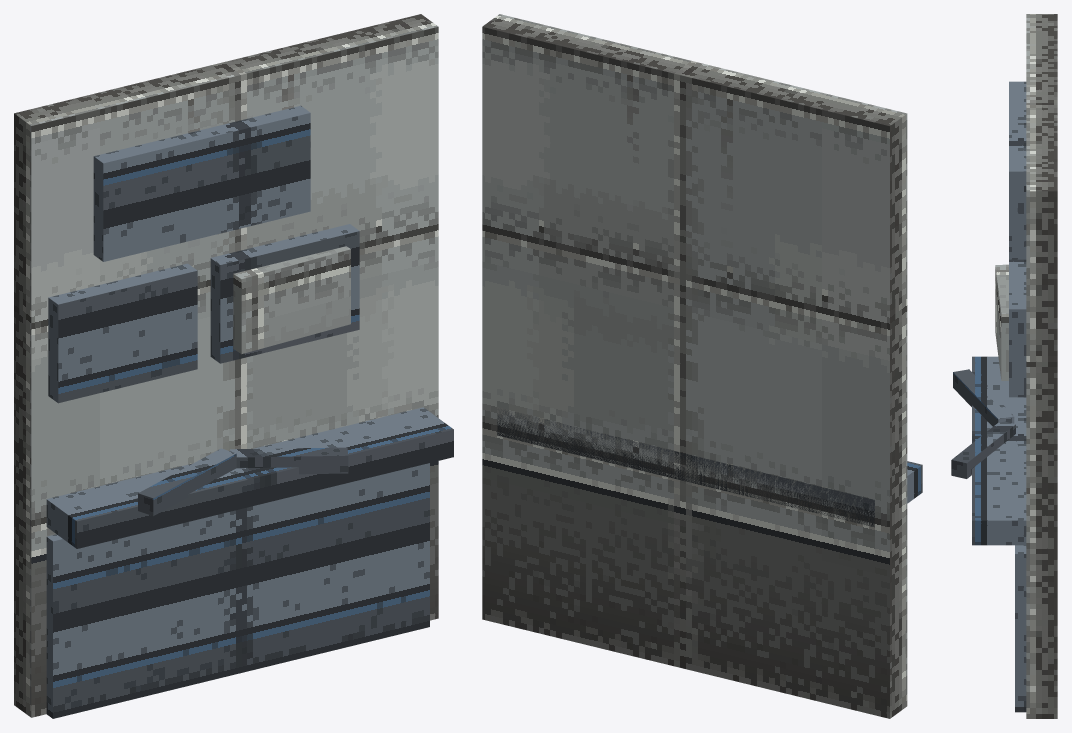
Rendered from tp_dm_screen_wall.glb.
The picture shows the model from 3 angles, left to right: view 1: azimuth 30°, elevation 25°; view 2: azimuth 150°, elevation 25°; view 3: azimuth 270°, elevation 25°; orthographic projection. The views are drawn at different scales.
Visible parts, largest first — view 1: dm_sw_frame, dm_sw_kick, dm_sw_screen_2, dm_sw_desk, dm_sw_screen_0, dm_sw_cracked, dm_sw_screen_1, dm_sw_loop_a, dm_sw_loop_b; view 2: dm_sw_frame, dm_sw_desk; view 3: dm_sw_frame, dm_sw_desk, dm_sw_screen_2, dm_sw_screen_1, dm_sw_kick, dm_sw_loop_a, dm_sw_loop_b, dm_sw_cracked.
Part boxes in pixels (<box>): dm_sw_frame: <box>14,14,438,717</box>; dm_sw_kick: <box>46,463,429,718</box>; dm_sw_screen_2: <box>93,105,310,261</box>; dm_sw_desk: <box>46,407,453,548</box>; dm_sw_screen_0: <box>48,263,197,403</box>; dm_sw_cracked: <box>233,246,350,354</box>; dm_sw_screen_1: <box>210,224,359,363</box>; dm_sw_loop_a: <box>138,448,236,515</box>; dm_sw_loop_b: <box>230,447,348,474</box>; dm_sw_frame: <box>482,14,907,718</box>; dm_sw_desk: <box>497,409,922,527</box>; dm_sw_frame: <box>1026,14,1057,718</box>; dm_sw_desk: <box>972,356,1026,545</box>; dm_sw_screen_2: <box>1009,81,1026,259</box>; dm_sw_screen_1: <box>1009,259,1026,397</box>; dm_sw_kick: <box>1015,545,1026,712</box>; dm_sw_loop_a: <box>953,369,1014,426</box>; dm_sw_loop_b: <box>951,421,1015,478</box>; dm_sw_cracked: <box>995,264,1008,380</box>.
Bounding box in the file's own units: 2.16 × 3 × 0.5465.
Materials: 2 (2 with a texture image).
